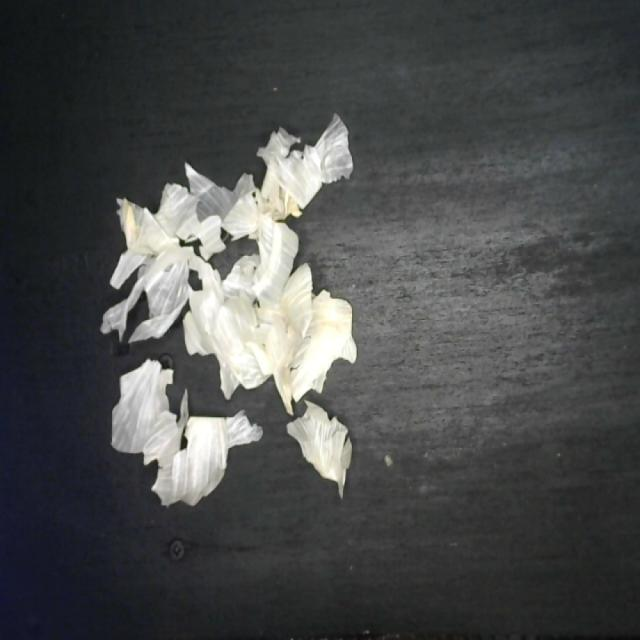biodegradable: (95, 109, 358, 512)
